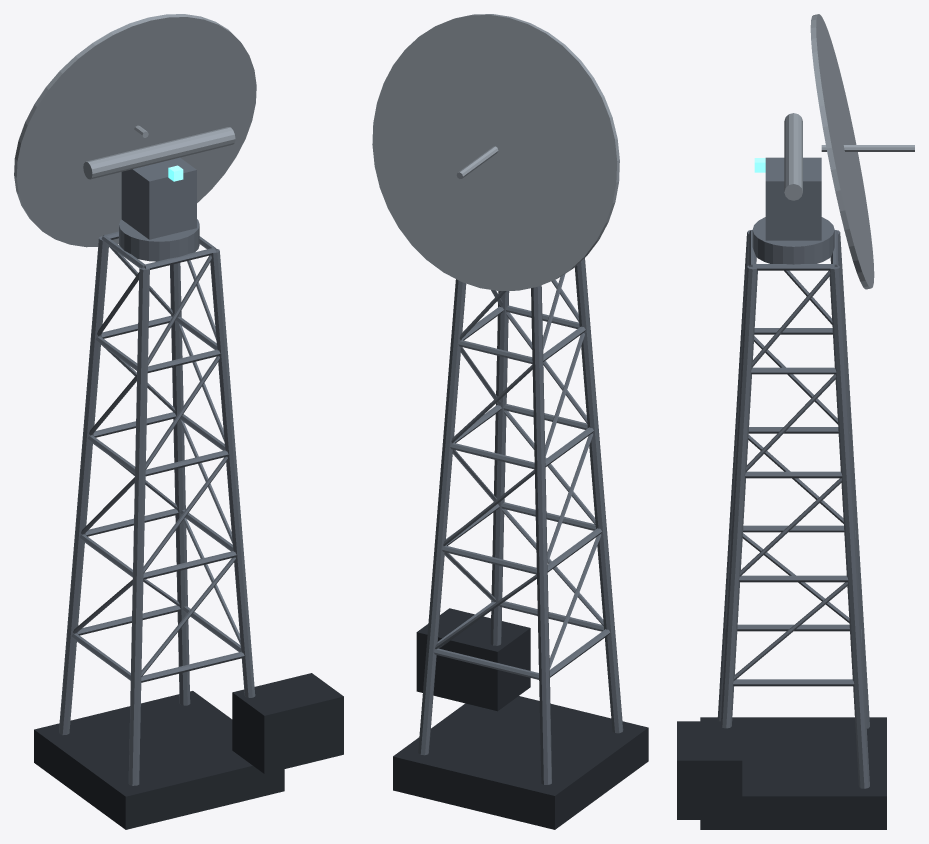
File: radar.glb
3 views of the same model, side by side, from view 1: azimuth 30°, elevation 25°; view 2: azimuth 150°, elevation 25°; view 3: azimuth 270°, elevation 25° (orthographic).
Visible parts, largest first — view 1: Dish, Base, Cabin, Leg2, Leg1, Mount, Leg3, Leg0, Axis, Bearing, Brace1_2, Diag2_2 (+7 smaller); view 2: Dish, Base, Cabin, Leg1, Leg0, Leg2, Leg3, Brace1_0, Brace2_0, Brace1_2, Diag2_1, Brace3_0 (+11 smaller); view 3: Base, Dish, Cabin, Leg0, Leg3, Mount, Bearing, Leg2, Leg1, Axis, Brace1_3, Brace2_3 (+15 smaller).
Boxes of the visible parts, x1,y1,x2,y2 form: Dish: (14,14,256,247); Base: (34,691,284,829); Cabin: (232,673,343,773); Leg2: (128,267,149,785); Leg1: (59,236,108,734); Mount: (121,157,196,239); Leg3: (210,249,255,697); Leg0: (170,263,190,705); Axis: (83,127,235,179); Bearing: (119,219,199,261); Brace1_2: (141,651,244,682); Diag2_2: (141,557,235,676); Dish: (372,14,619,291); Base: (393,696,648,829); Cabin: (416,608,530,711); Leg1: (531,285,551,784); Leg0: (418,279,466,755); Leg2: (574,258,623,733); Leg3: (490,291,509,645); Brace1_0: (433,648,538,679); Brace2_0: (442,545,536,574); Brace1_2: (499,601,603,631); Diag2_1: (549,534,601,669); Brace3_0: (450,442,534,469); Base: (700,717,886,829); Dish: (810,14,874,289); Cabin: (677,721,742,819); Leg0: (829,265,869,788); Leg3: (720,265,757,728); Mount: (765,157,821,240); Bearing: (752,217,834,264); Leg2: (717,230,756,721); Leg1: (830,230,869,728); Axis: (784,113,802,200); Brace1_3: (733,679,854,686); Brace2_3: (739,575,848,582).
Size of the model in its own units: 1.55 by 4.52 by 1.27.
